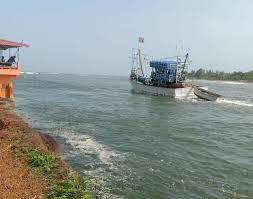fishing boat: (128, 32, 210, 100), (194, 80, 226, 102)
